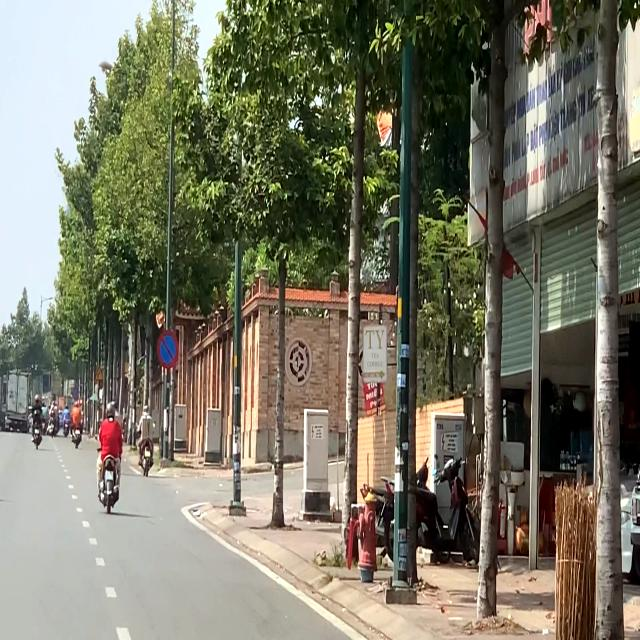P.131a: (157, 329, 179, 369)
W.201b: (95, 366, 104, 381)
